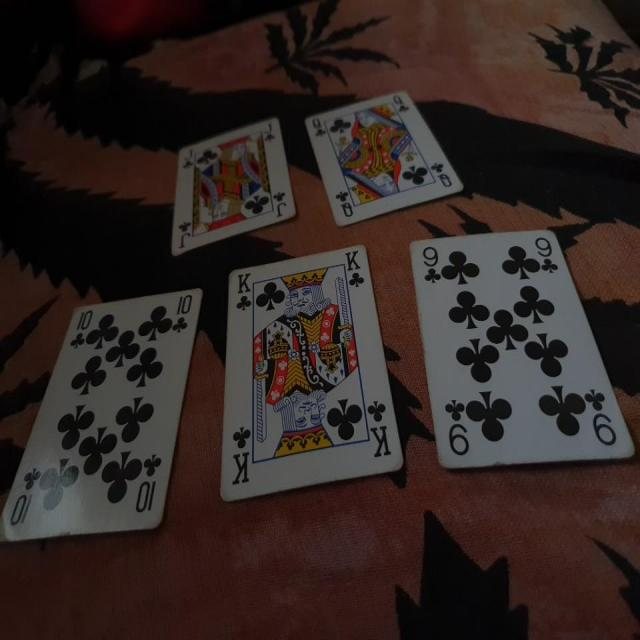10 Trefoils: (1, 284, 204, 545)
9 Trefoils: (407, 223, 638, 472)
J Trefoils: (171, 114, 299, 261)
K Trefoils: (218, 244, 405, 504)
Q Trefoils: (303, 90, 462, 229)
